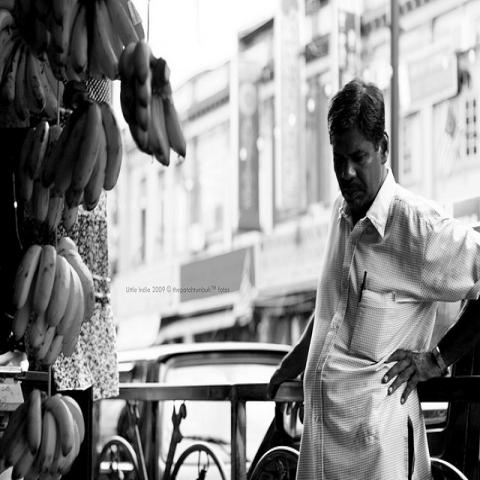car: (113, 338, 295, 479)
